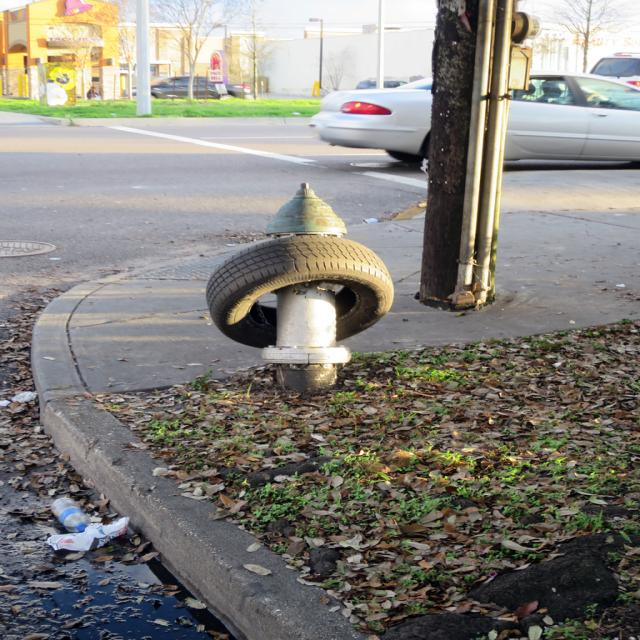fire_hydrant: (264, 185, 349, 396)
